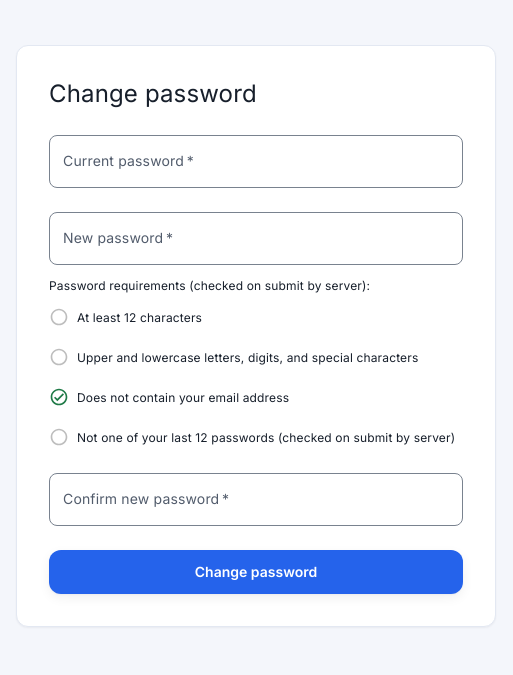
Test: ChangePasswordPage › server 400 for reused password shows history message
Type "OldPass1!" into the password field labelled "Current password *".
click(256, 161); type("OldPass1!")  # box [49, 134, 463, 188]
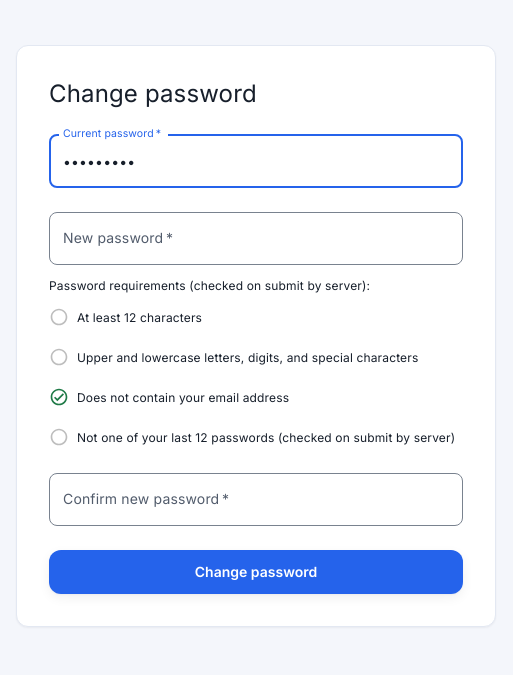
Type "Abc123!@#xyz12" into the password field labelled "New password *".
click(256, 238); type("Abc123!@#xyz12")  # box [49, 212, 463, 265]
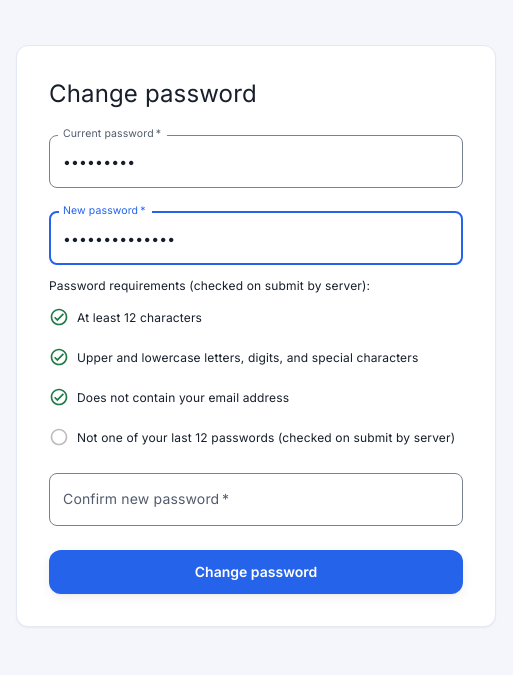
Type "Abc123!@#xyz12" into the password field labelled "Confirm new password *".
click(256, 499); type("Abc123!@#xyz12")  # box [49, 473, 463, 526]
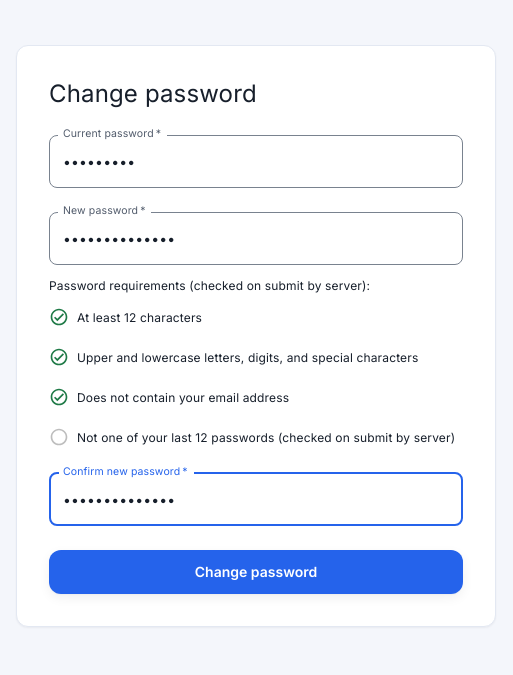
Click the button "Change password".
click(256, 572)  # box [49, 550, 463, 594]
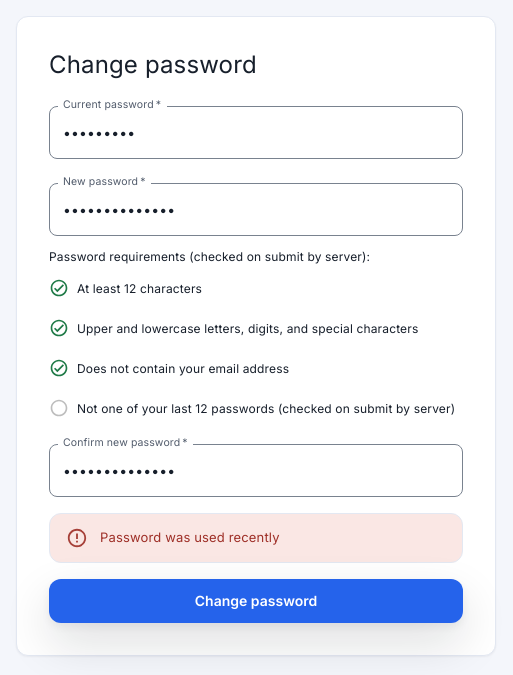
Expected: the message "Password was used recently" is shown, [49, 513, 463, 563]
Expected: the message with test id "server-error" shows "recently", [100, 529, 280, 545]
